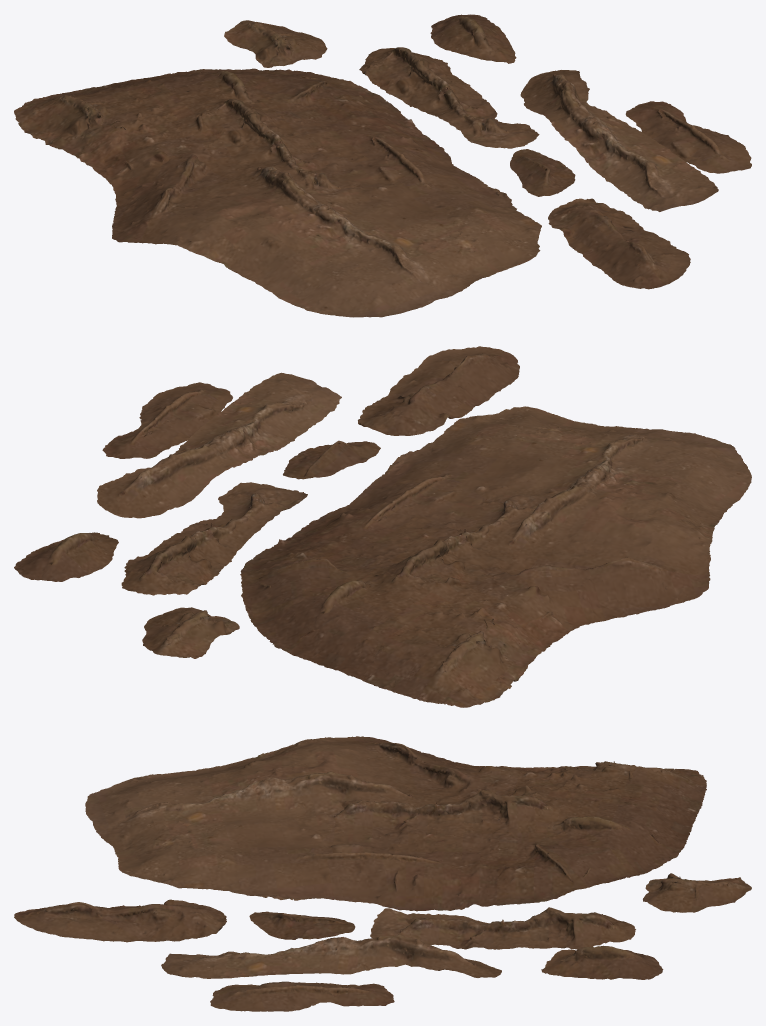
Rendered from root_cluster_02_wood.glb.
3 views of the same model, one above another, from view 1: azimuth 30°, elevation 25°; view 2: azimuth 150°, elevation 25°; view 3: azimuth 270°, elevation 25° (orthographic). The views are drawn at different scales.
Visible parts, largest first — view 1: root_cluster_02_a, root_cluster_02_f, root_cluster_02_d, root_cluster_02_b, root_cluster_02_g, root_cluster_02_e, root_cluster_02_h, root_cluster_02_c; view 2: root_cluster_02_a, root_cluster_02_f, root_cluster_02_d, root_cluster_02_b, root_cluster_02_g, root_cluster_02_h, root_cluster_02_e, root_cluster_02_c; view 3: root_cluster_02_a, root_cluster_02_f, root_cluster_02_d, root_cluster_02_b, root_cluster_02_g, root_cluster_02_h, root_cluster_02_e, root_cluster_02_c.
Part boxes in pixels (bbox=[...]): root_cluster_02_a: bbox=[14, 68, 541, 317]; root_cluster_02_f: bbox=[520, 70, 718, 211]; root_cluster_02_d: bbox=[359, 47, 539, 148]; root_cluster_02_b: bbox=[548, 198, 690, 289]; root_cluster_02_g: bbox=[625, 101, 751, 173]; root_cluster_02_e: bbox=[224, 20, 327, 67]; root_cluster_02_h: bbox=[430, 14, 516, 63]; root_cluster_02_c: bbox=[510, 149, 575, 196]; root_cluster_02_a: bbox=[240, 406, 751, 707]; root_cluster_02_f: bbox=[97, 372, 341, 518]; root_cluster_02_d: bbox=[121, 482, 307, 595]; root_cluster_02_b: bbox=[358, 346, 519, 435]; root_cluster_02_g: bbox=[102, 382, 232, 458]; root_cluster_02_h: bbox=[14, 532, 118, 581]; root_cluster_02_e: bbox=[142, 607, 239, 658]; root_cluster_02_c: bbox=[283, 440, 380, 479]; root_cluster_02_a: bbox=[85, 736, 706, 911]; root_cluster_02_f: bbox=[161, 934, 501, 978]; root_cluster_02_d: bbox=[370, 907, 635, 949]; root_cluster_02_b: bbox=[14, 899, 226, 942]; root_cluster_02_g: bbox=[210, 981, 394, 1011]; root_cluster_02_h: bbox=[541, 945, 663, 979]; root_cluster_02_e: bbox=[643, 873, 751, 912]; root_cluster_02_c: bbox=[249, 911, 355, 939].
Bounding box in the file's own units: 2.38 × 0.1984 × 2.71.
Materials: 1 (1 with a texture image).
